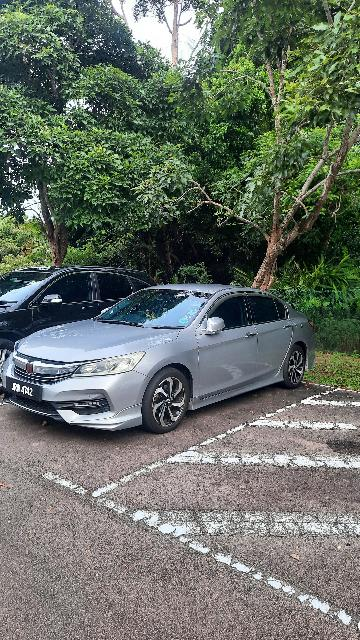License_Plate: (4, 375, 43, 407)
car: (1, 282, 319, 437), (1, 266, 175, 397)
